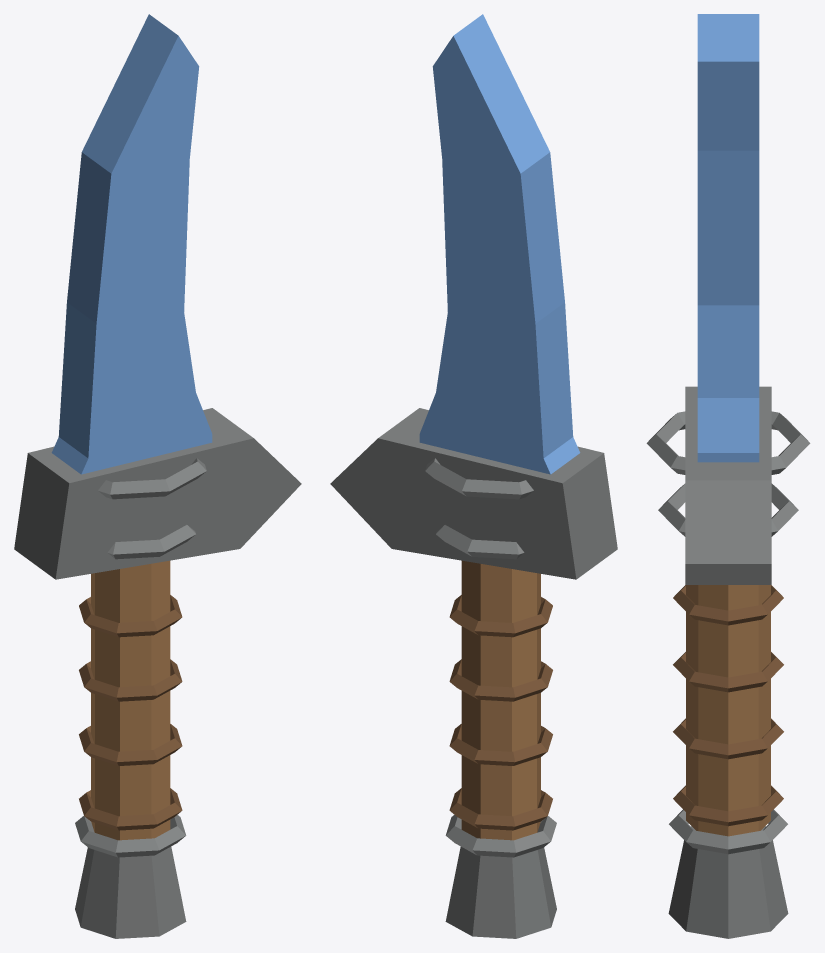
The model's file is t4_skinning_knife.glb.
3 views of the same model, side by side, from view 1: azimuth 30°, elevation 25°; view 2: azimuth 150°, elevation 25°; view 3: azimuth 270°, elevation 25° (orthographic). The views are drawn at different scales.
Visible parts, largest first — view 1: CurvedSkinningBlade, BladeGuard, WoodHandle, BottomPommel, PommelBand, GuardRing, LeatherWrap1, LeatherWrap3, LeatherWrap4, LeatherWrap2, BladeCollar; view 2: CurvedSkinningBlade, BladeGuard, WoodHandle, BottomPommel, PommelBand, GuardRing, LeatherWrap1, LeatherWrap3, LeatherWrap4, LeatherWrap2, BladeCollar; view 3: CurvedSkinningBlade, WoodHandle, BladeGuard, BottomPommel, GuardRing, PommelBand, LeatherWrap1, LeatherWrap2, LeatherWrap3, LeatherWrap4, BladeCollar.
Part boxes in pixels (bbox=[...]): CurvedSkinningBlade: bbox=[51, 14, 212, 474]; BladeGuard: bbox=[14, 408, 301, 579]; WoodHandle: bbox=[91, 560, 170, 840]; BottomPommel: bbox=[75, 846, 186, 938]; PommelBand: bbox=[75, 815, 186, 857]; GuardRing: bbox=[98, 458, 206, 499]; LeatherWrap1: bbox=[79, 788, 182, 830]; LeatherWrap3: bbox=[79, 659, 182, 701]; LeatherWrap4: bbox=[79, 595, 182, 637]; LeatherWrap2: bbox=[79, 724, 182, 765]; BladeCollar: bbox=[107, 525, 195, 559]; CurvedSkinningBlade: bbox=[419, 14, 580, 474]; BladeGuard: bbox=[330, 408, 617, 579]; WoodHandle: bbox=[461, 560, 540, 840]; BottomPommel: bbox=[445, 846, 556, 938]; PommelBand: bbox=[445, 815, 556, 857]; GuardRing: bbox=[425, 458, 533, 499]; LeatherWrap1: bbox=[449, 788, 552, 830]; LeatherWrap3: bbox=[449, 659, 552, 701]; LeatherWrap4: bbox=[449, 595, 552, 637]; LeatherWrap2: bbox=[449, 724, 552, 765]; BladeCollar: bbox=[436, 525, 524, 559]; CurvedSkinningBlade: bbox=[697, 14, 759, 462]; WoodHandle: bbox=[686, 585, 770, 836]; BladeGuard: bbox=[685, 386, 771, 584]; BottomPommel: bbox=[668, 826, 788, 938]; GuardRing: bbox=[646, 411, 810, 474]; PommelBand: bbox=[669, 809, 787, 854]; LeatherWrap1: bbox=[673, 785, 783, 826]; LeatherWrap2: bbox=[673, 718, 783, 759]; LeatherWrap3: bbox=[673, 652, 783, 692]; LeatherWrap4: bbox=[673, 585, 783, 625]; BladeCollar: bbox=[658, 483, 798, 536].
Bounding box in the file's own units: 0.36 × 1.23 × 0.2.
